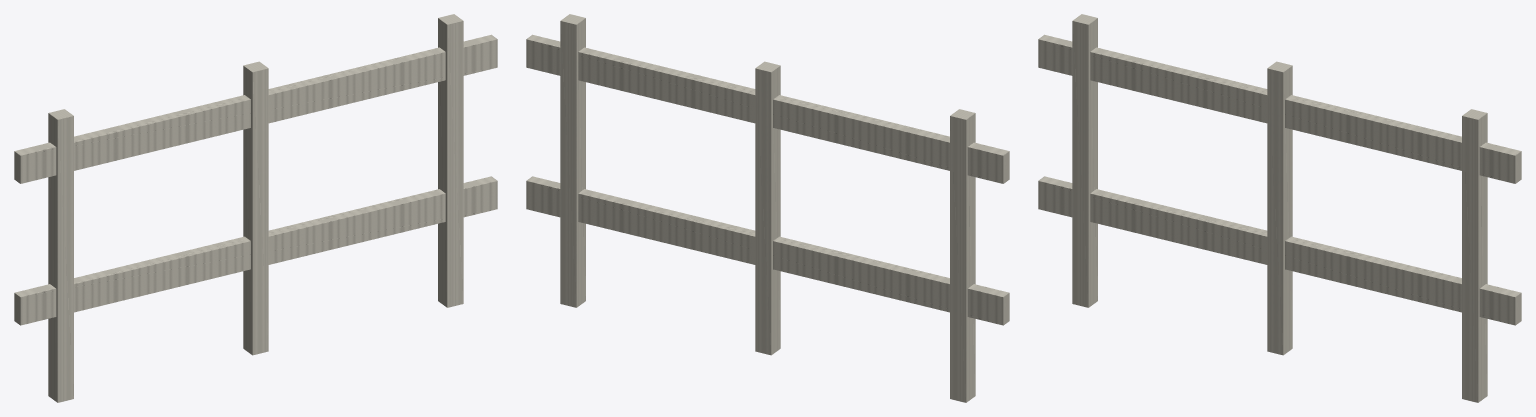
File: fence_picket.glb
The picture shows the model from 3 angles, left to right: view 1: azimuth 30°, elevation 25°; view 2: azimuth 150°, elevation 25°; view 3: azimuth 330°, elevation 25°; orthographic projection.
Parts seen in each view (by area): view 1: fencerail_231, fencerail_232, fencepost_230, fencepost_229, fencepost_228; view 2: fencerail_231, fencerail_232, fencepost_230, fencepost_229, fencepost_228; view 3: fencerail_231, fencerail_232, fencepost_228, fencepost_229, fencepost_230.
Boxes of the visible parts, box(x1,y1,x2,y2) form: fencerail_231: box(14, 176, 497, 325); fencerail_232: box(14, 34, 497, 183); fencepost_230: box(438, 14, 463, 307); fencepost_229: box(243, 61, 268, 355); fencepost_228: box(48, 109, 73, 402); fencerail_231: box(526, 176, 1009, 325); fencerail_232: box(526, 34, 1009, 183); fencepost_230: box(560, 14, 585, 307); fencepost_229: box(755, 61, 780, 355); fencepost_228: box(950, 109, 975, 402); fencerail_231: box(1038, 176, 1521, 325); fencerail_232: box(1038, 34, 1521, 183); fencepost_228: box(1072, 14, 1097, 307); fencepost_229: box(1267, 61, 1292, 355); fencepost_230: box(1462, 109, 1487, 402).
Bounding box in the file's own units: 1.76 × 1 × 0.06.
1 material, 1 textured.
